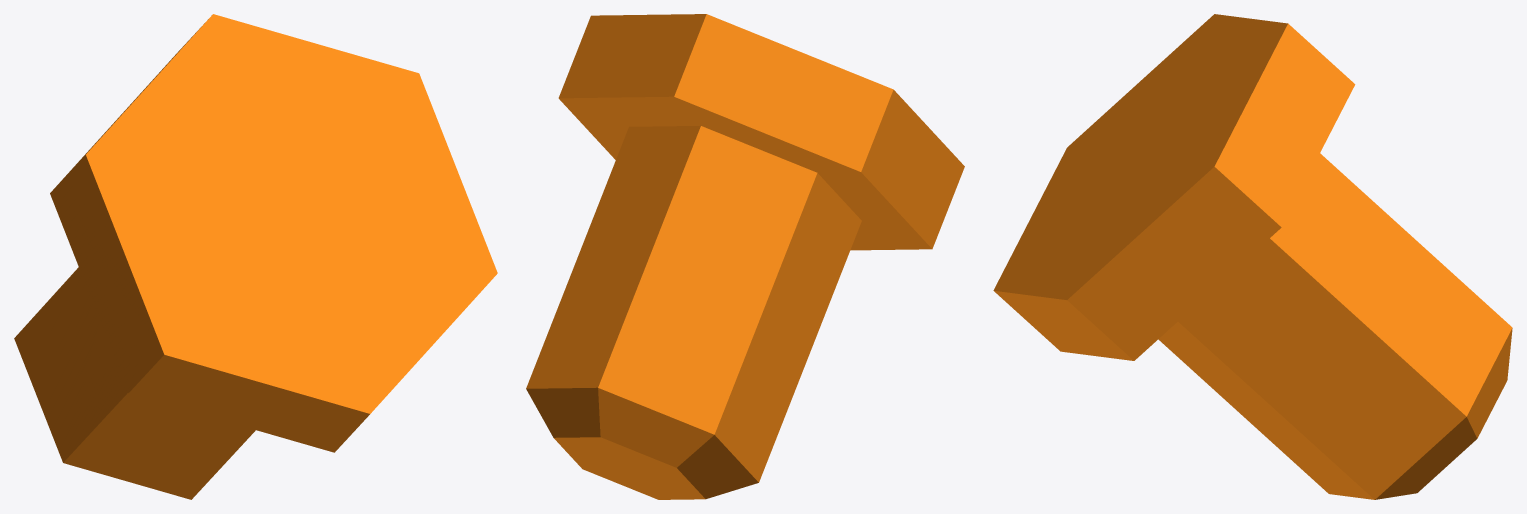
The model's file is Screw.fbx.
3 views of the same model, side by side, from view 1: azimuth 30°, elevation 25°; view 2: azimuth 150°, elevation 25°; view 3: azimuth 270°, elevation 25° (orthographic). The views are drawn at different scales.
Parts seen in each view (by area): view 1: Screw; view 2: Screw; view 3: Screw.
Boxes of the visible parts, left/top/right/bottom form: Screw: left=14, top=14, right=497, bottom=499; Screw: left=526, top=14, right=964, bottom=499; Screw: left=993, top=14, right=1512, bottom=499.
Bounding box in the file's own units: 79.39 × 114 × 114.
